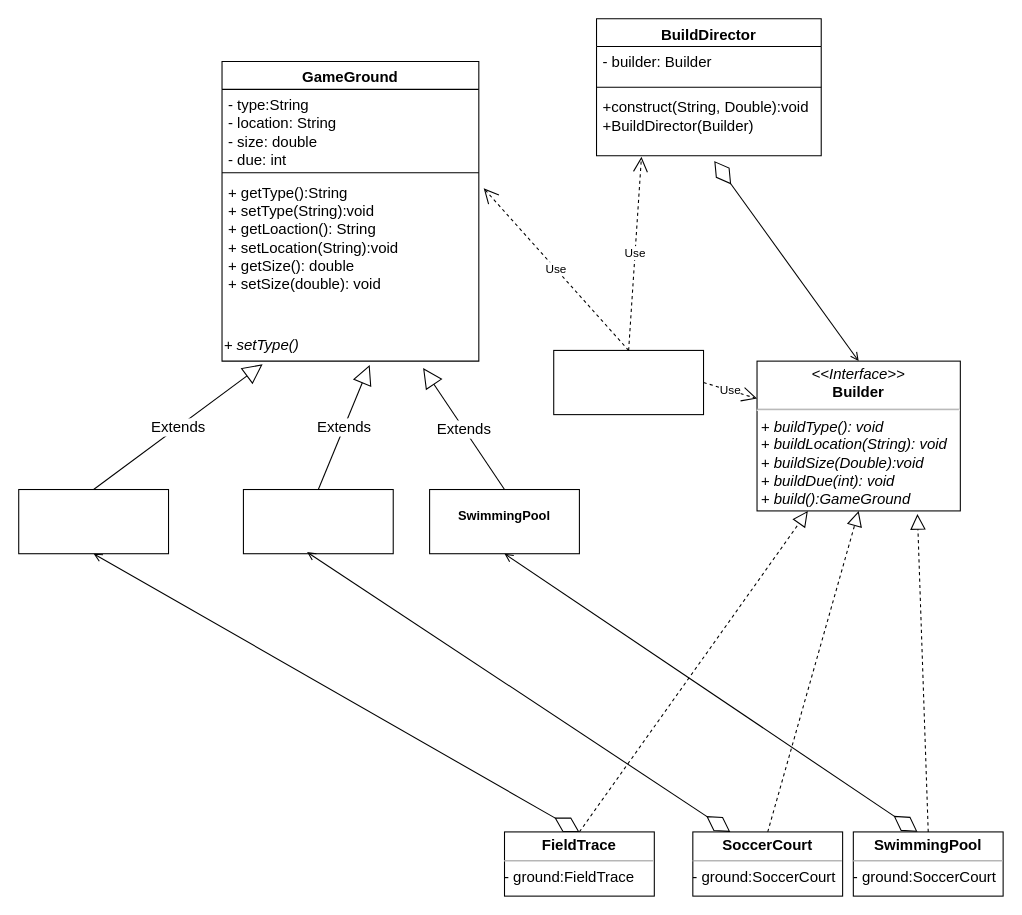
The diagram is 1022 pixels wide and 915 high, and some of its shapes have lost their labels. Each missing label, with the centre of its shape:
BuilderTest: the point at 628,382
FieldTrace: the point at 93,521
SoccerCourt: the point at 317,521
